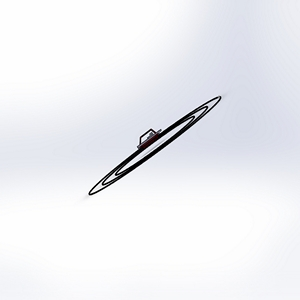circle: (77, 85, 226, 203)
submarine: (130, 123, 166, 151)
